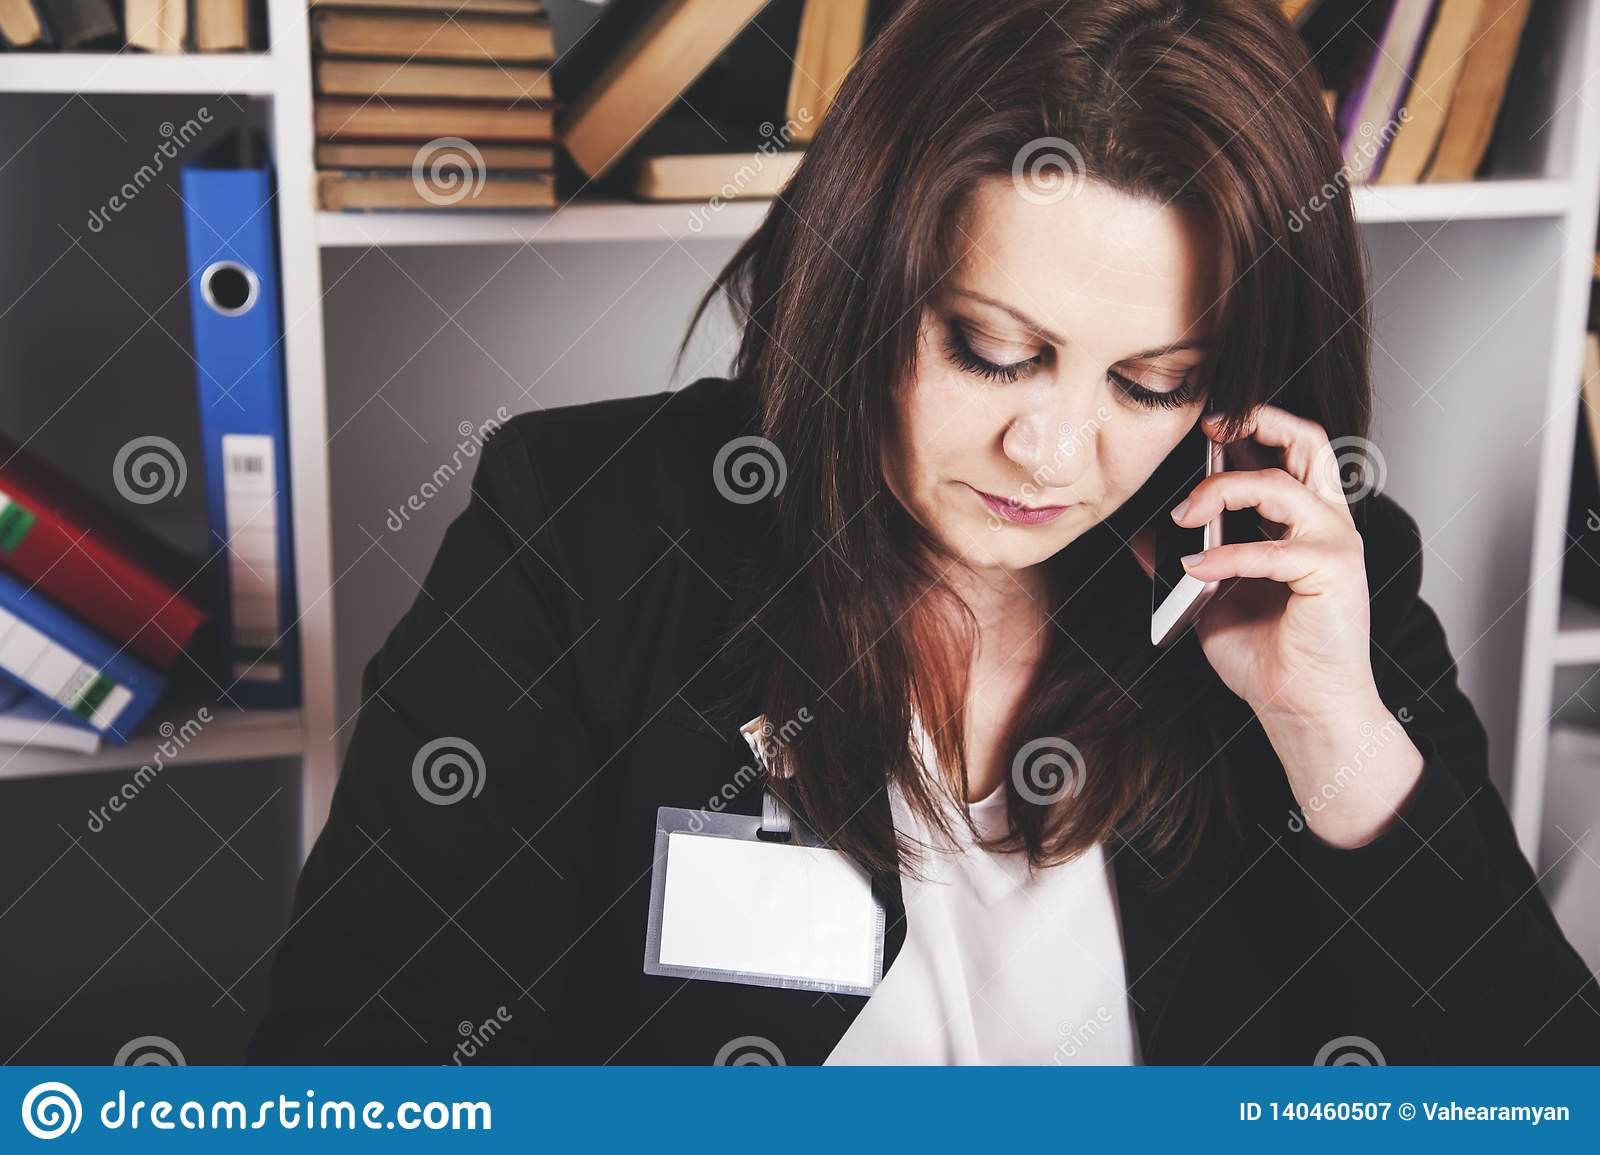phone: (1143, 396, 1231, 654)
talk: (886, 261, 1379, 765)
